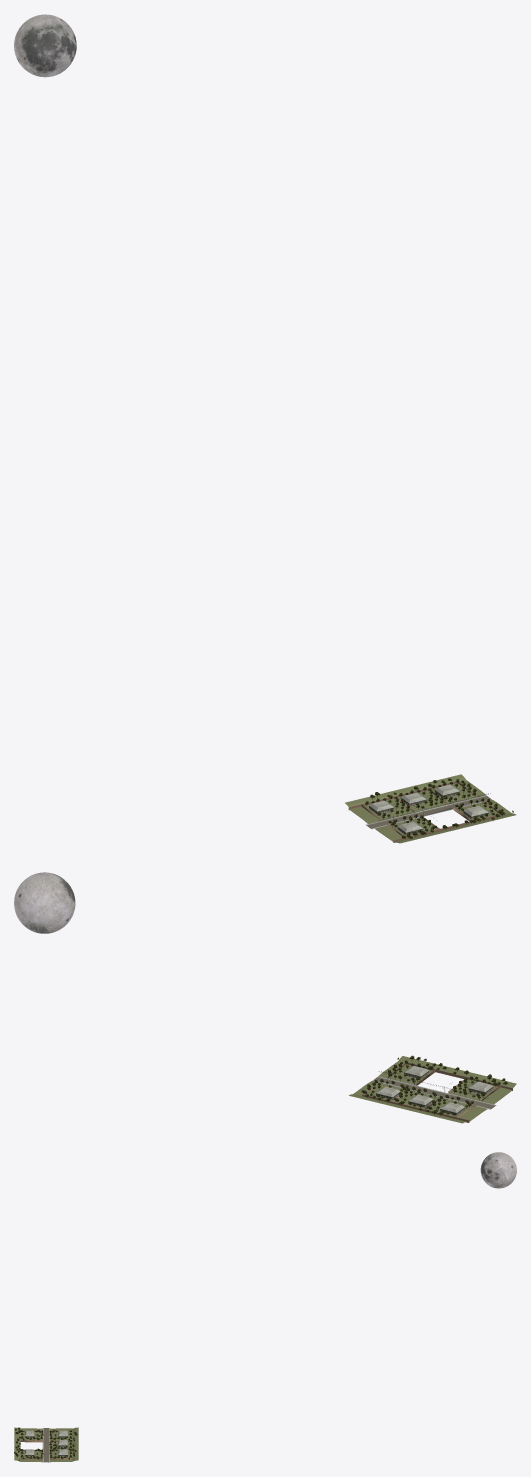
File: outside.glb
3 renders of one model, top to bottom at view 1: azimuth 30°, elevation 25°; view 2: azimuth 150°, elevation 25°; view 3: azimuth 270°, elevation 25°, orthographic. The views are drawn at different scales.
Visible parts, largest first — view 1: Sphere_Material.002_0, Fondo_Casa_f_0, Plane.067_Pasto1_0, Arboles_Pasto1_0, Arboles.001_Arbol1_0; view 2: Sphere_Material.002_0, Fondo_Casa_f_0, Arboles_Pasto1_0, Arboles.001_Arbol1_0, Plane.067_Pasto1_0, Plane.069_Pasto1_0, Muro.001_Muro_0, Carretera.001_Road_0, Arboles_Arbol1_0, Plane.069_Pasto1_0.002; view 3: Sphere_Material.002_0, Plane.067_Pasto1_0, Arboles_Pasto1_0, Arboles.001_Arbol1_0, Fondo_Casa_f_0.
Boxes of the visible parts, x1,y1,x2,y2 form: Sphere_Material.002_0: [14, 14, 76, 77]; Fondo_Casa_f_0: [369, 784, 488, 835]; Plane.067_Pasto1_0: [398, 780, 511, 819]; Arboles_Pasto1_0: [345, 774, 516, 843]; Arboles.001_Arbol1_0: [365, 779, 503, 834]; Sphere_Material.002_0: [14, 872, 75, 933]; Fondo_Casa_f_0: [376, 1066, 493, 1115]; Arboles_Pasto1_0: [349, 1056, 516, 1123]; Arboles.001_Arbol1_0: [361, 1060, 496, 1116]; Plane.067_Pasto1_0: [353, 1062, 439, 1108]; Plane.069_Pasto1_0: [449, 1079, 512, 1104]; Muro.001_Muro_0: [362, 1063, 512, 1122]; Carretera.001_Road_0: [373, 1077, 494, 1108]; Arboles_Arbol1_0: [365, 1055, 507, 1115]; Plane.069_Pasto1_0.002: [426, 1101, 481, 1122]; Sphere_Material.002_0: [480, 1152, 516, 1188]; Plane.067_Pasto1_0: [20, 1441, 72, 1462]; Arboles_Pasto1_0: [14, 1427, 78, 1461]; Arboles.001_Arbol1_0: [20, 1430, 71, 1459]; Fondo_Casa_f_0: [25, 1430, 67, 1456].
Size of the model in its own units: 162 by 648 by 1005.
20 materials, 13 textured.
